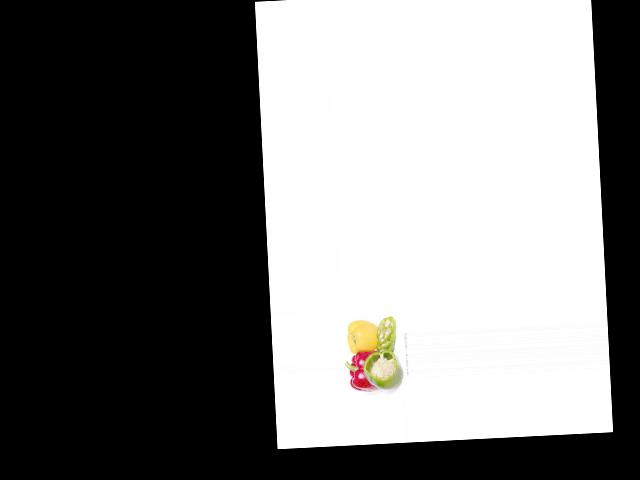bell_pepper: (361, 349, 400, 394)
